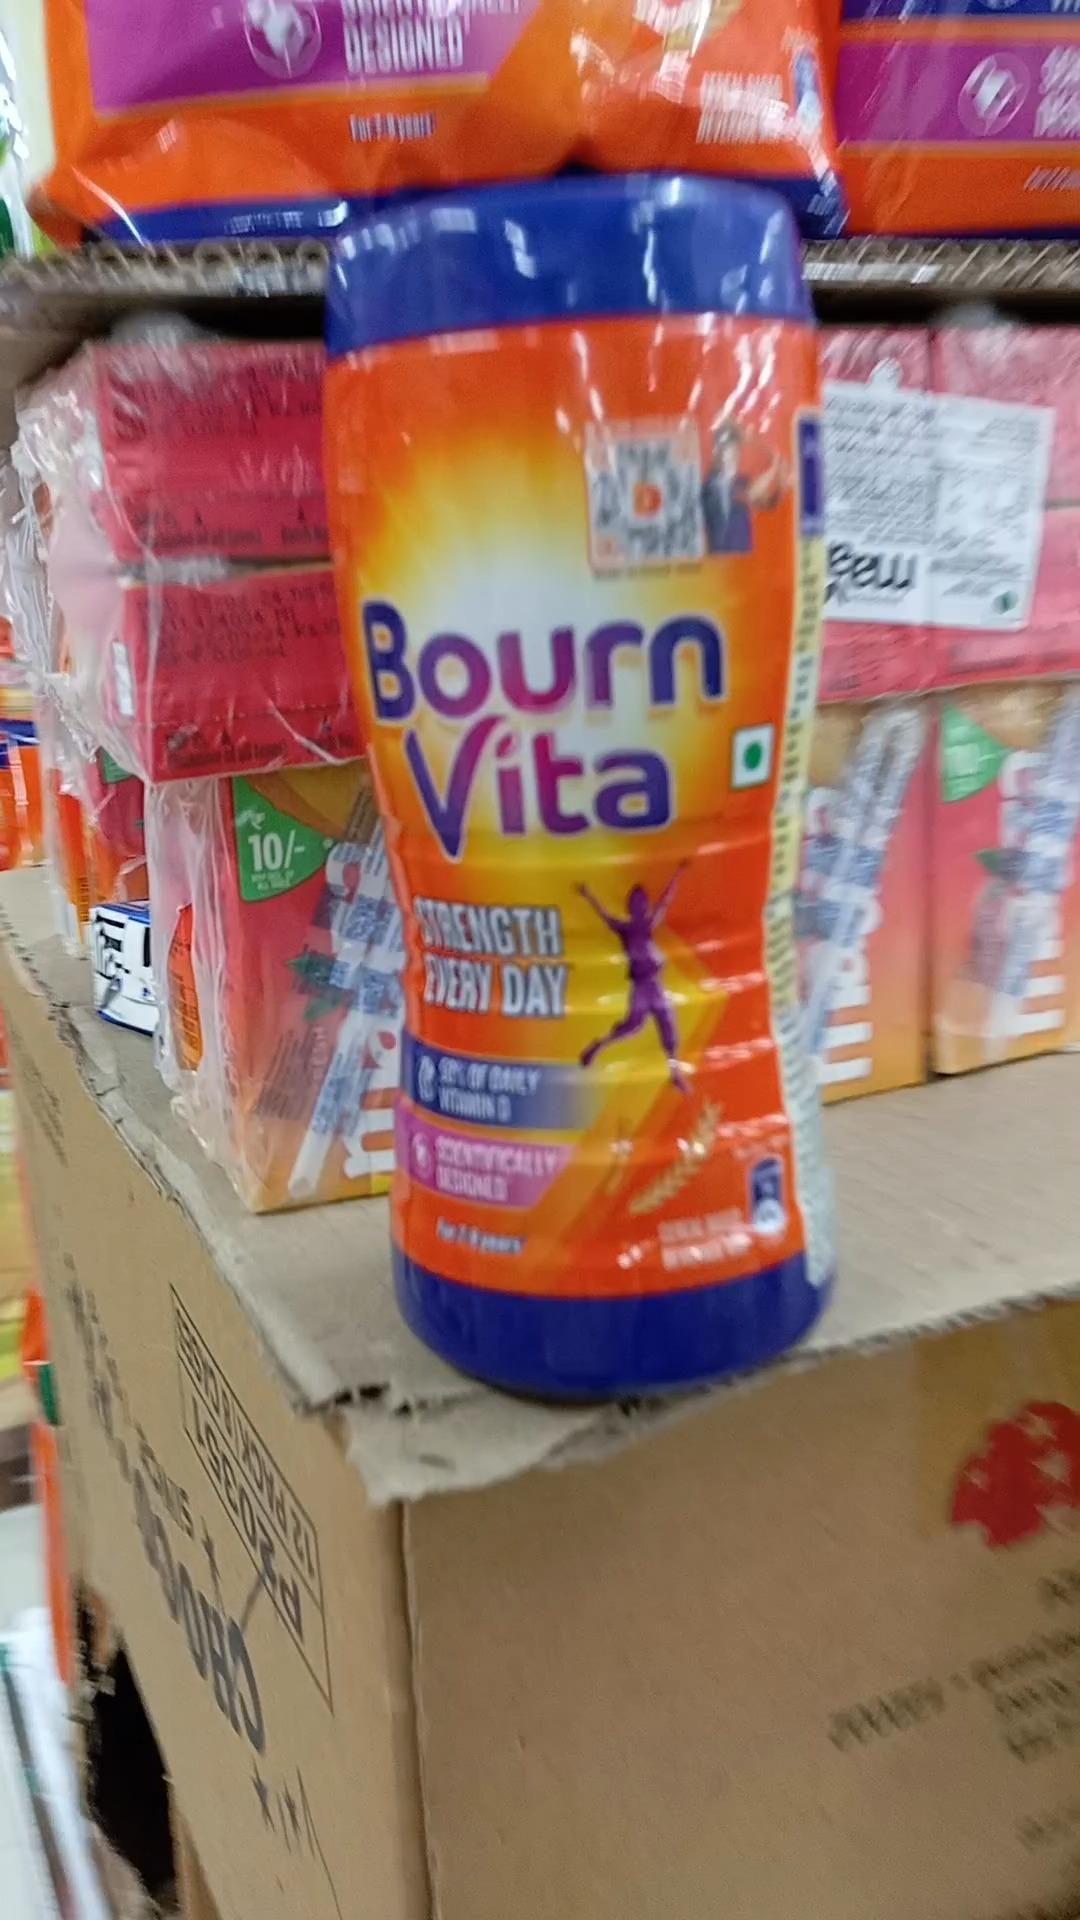BOURN_VITA_200_G_JAR: (330, 160, 829, 1385)
